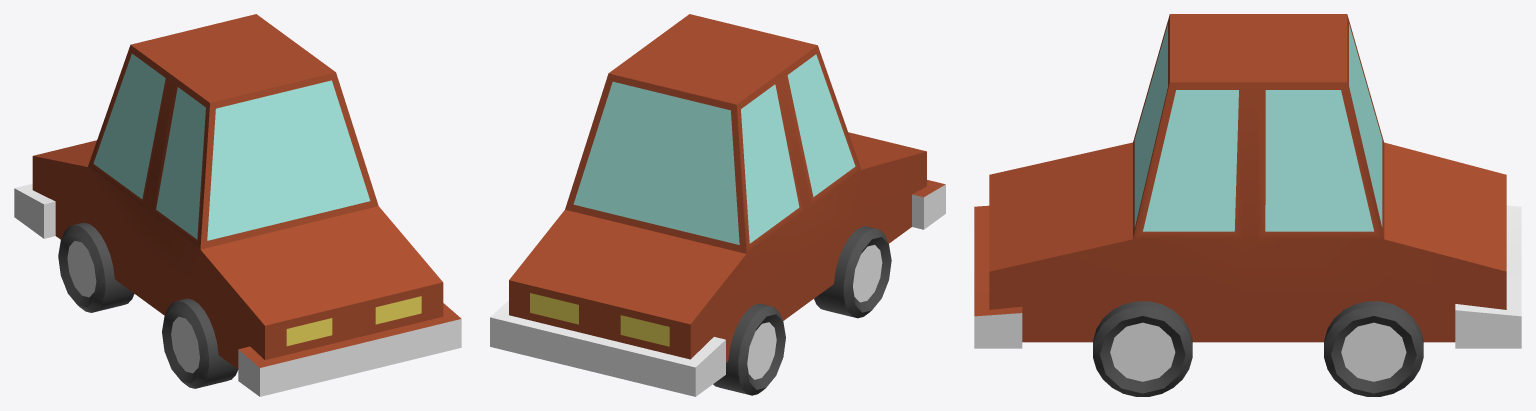
The model's file is basic car brown.fbx.
3 views of the same model, side by side, from view 1: azimuth 30°, elevation 25°; view 2: azimuth 150°, elevation 25°; view 3: azimuth 270°, elevation 25° (orthographic). The views are drawn at different scales.
Parts seen in each view (by area): view 1: body, pCylinder10, pCylinder9; view 2: body, pCylinder9, pCylinder10; view 3: body, pCylinder7, pCylinder8.
Boxes of the visible parts, left/top/right/bottom form: body: left=14, top=14, right=461, bottom=396; pCylinder10: left=58, top=222, right=134, bottom=312; pCylinder9: left=162, top=298, right=237, bottom=388; body: left=490, top=14, right=945, bottom=396; pCylinder9: left=814, top=226, right=891, bottom=318; pCylinder10: left=713, top=303, right=785, bottom=395; body: left=974, top=14, right=1521, bottom=348; pCylinder7: left=1093, top=301, right=1192, bottom=396; pCylinder8: left=1324, top=301, right=1423, bottom=396.
Bounding box in the file's own units: 40.85 × 49.54 × 83.34.
1 material, 1 textured.
